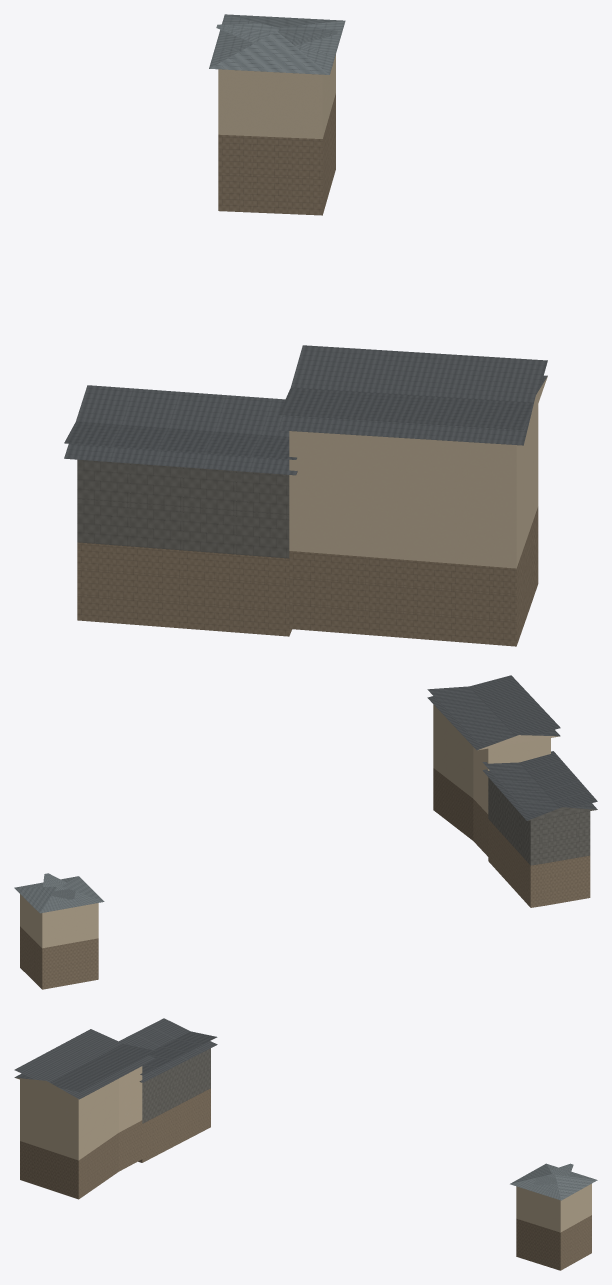
The model's file is bld_c14_37_411.gltf.
3 renders of one model, top to bottom at view 1: azimuth 30°, elevation 25°; view 2: azimuth 150°, elevation 25°; view 3: azimuth 270°, elevation 25°, orthographic. The views are drawn at different scales.
Parts seen in each view (by area): view 1: bld_c14_37_411; view 2: bld_c14_37_411; view 3: bld_c14_37_411.
Boxes of the visible parts, x1=… form: bld_c14_37_411: x1=64, y1=14, x2=547, y2=646; bld_c14_37_411: x1=14, y1=675, x2=597, y2=989; bld_c14_37_411: x1=14, y1=1018, x2=597, y2=1270.
Size of the model in its own units: 46.42 by 14.9 by 69.16.
Materials: 7 (7 with a texture image).
